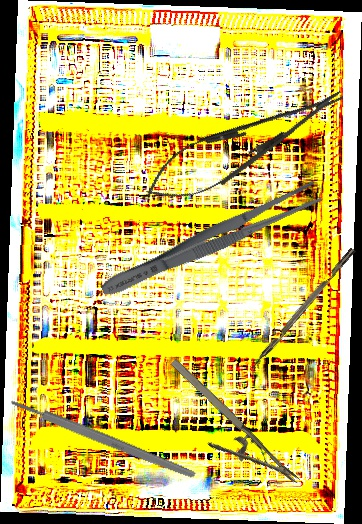Chopper: (244, 247, 362, 380)
Dressing Forceps: (96, 176, 324, 305)
Needle Holder: (135, 71, 355, 219), (149, 354, 301, 510)
Scalpel Handle: (9, 396, 197, 481)
